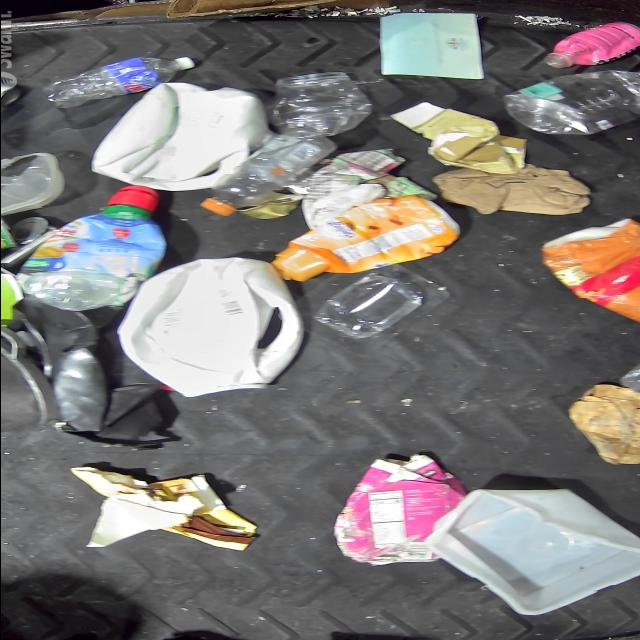milk_jug: (114, 260, 304, 397), (88, 81, 268, 189)
non_white_jug: (20, 196, 165, 310), (332, 454, 464, 566)
plastic_bottle: (205, 132, 337, 216), (41, 52, 194, 104)
